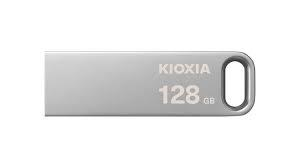Flash-drive: (24, 22, 269, 138)
